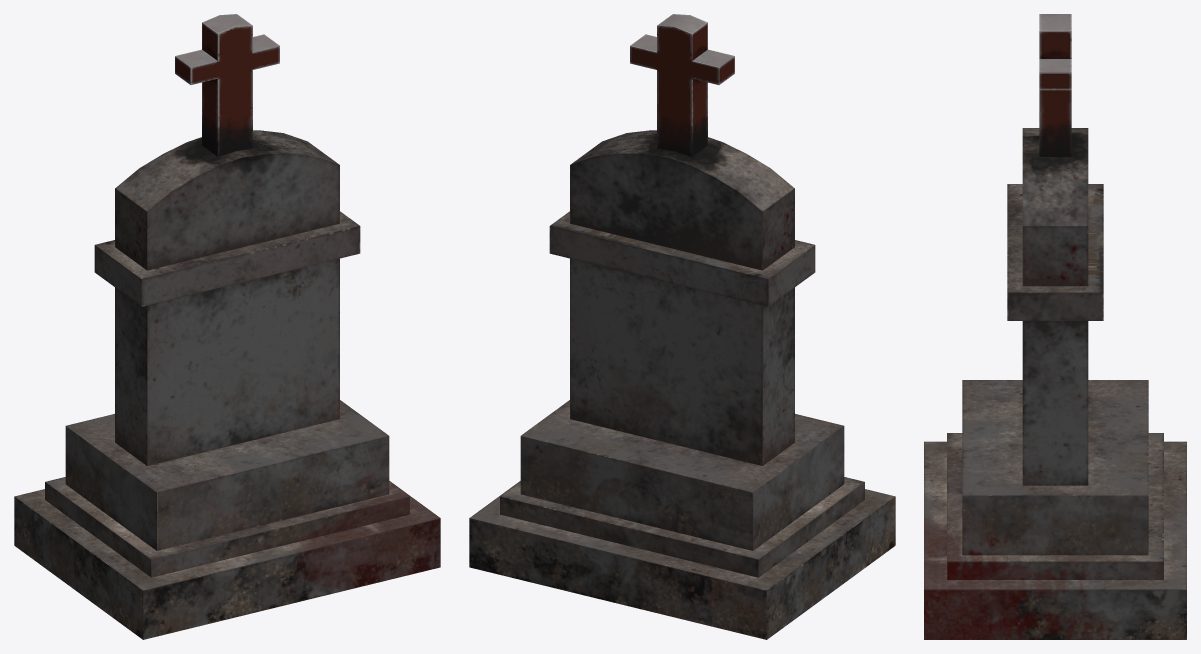
The model's file is grave2.glb.
3 views of the same model, side by side, from view 1: azimuth 30°, elevation 25°; view 2: azimuth 150°, elevation 25°; view 3: azimuth 270°, elevation 25° (orthographic). The views are drawn at different scales.
Visible parts, largest first — view 1: polySurface4; view 2: polySurface4; view 3: polySurface4.
Boxes of the visible parts, bbox=[...] form: polySurface4: bbox=[14, 14, 440, 639]; polySurface4: bbox=[469, 14, 895, 639]; polySurface4: bbox=[924, 14, 1186, 639].
Bounding box in the file's own units: 22.95 × 39.48 × 17.21.
Materials: 1 (1 with a texture image).
